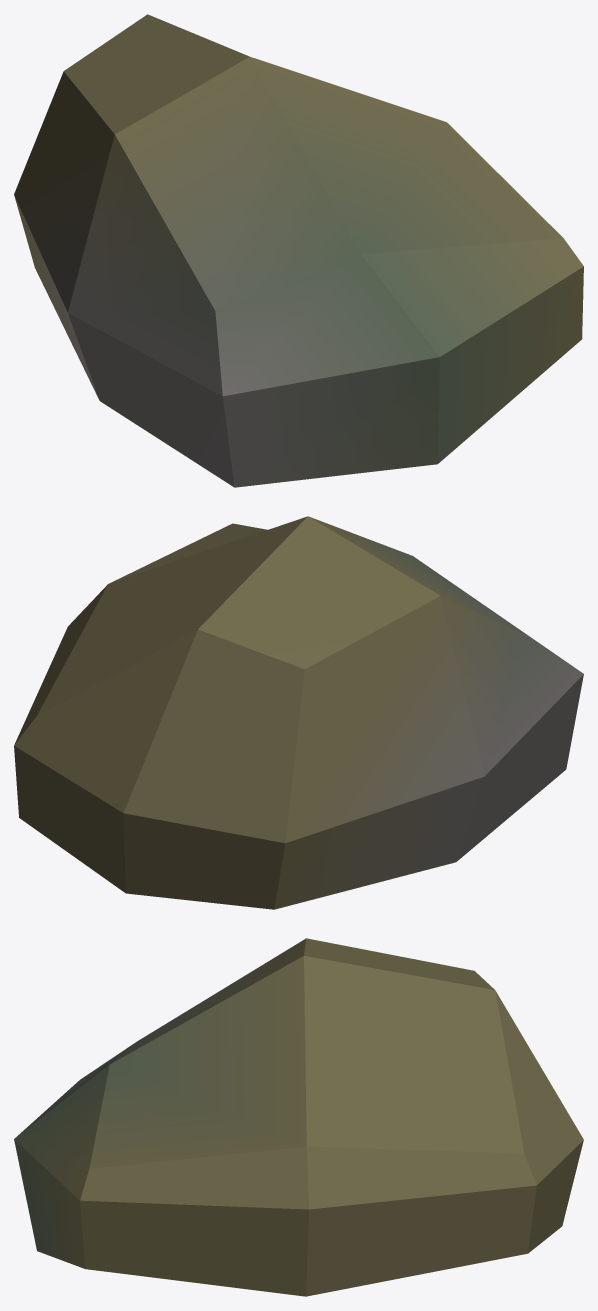
Rendered from Stone_04.fbx.
3 views of the same model, one above another, from view 1: azimuth 30°, elevation 25°; view 2: azimuth 150°, elevation 25°; view 3: azimuth 270°, elevation 25° (orthographic). The views are drawn at different scales.
Visible parts, largest first — view 1: Stone_04; view 2: Stone_04; view 3: Stone_04.
Part boxes in pixels (x1,y1,x2,y2): Stone_04: (14,14,583,487); Stone_04: (14,516,583,909); Stone_04: (14,938,583,1296).
Size of the model in its own units: 752 by 533 by 990.
